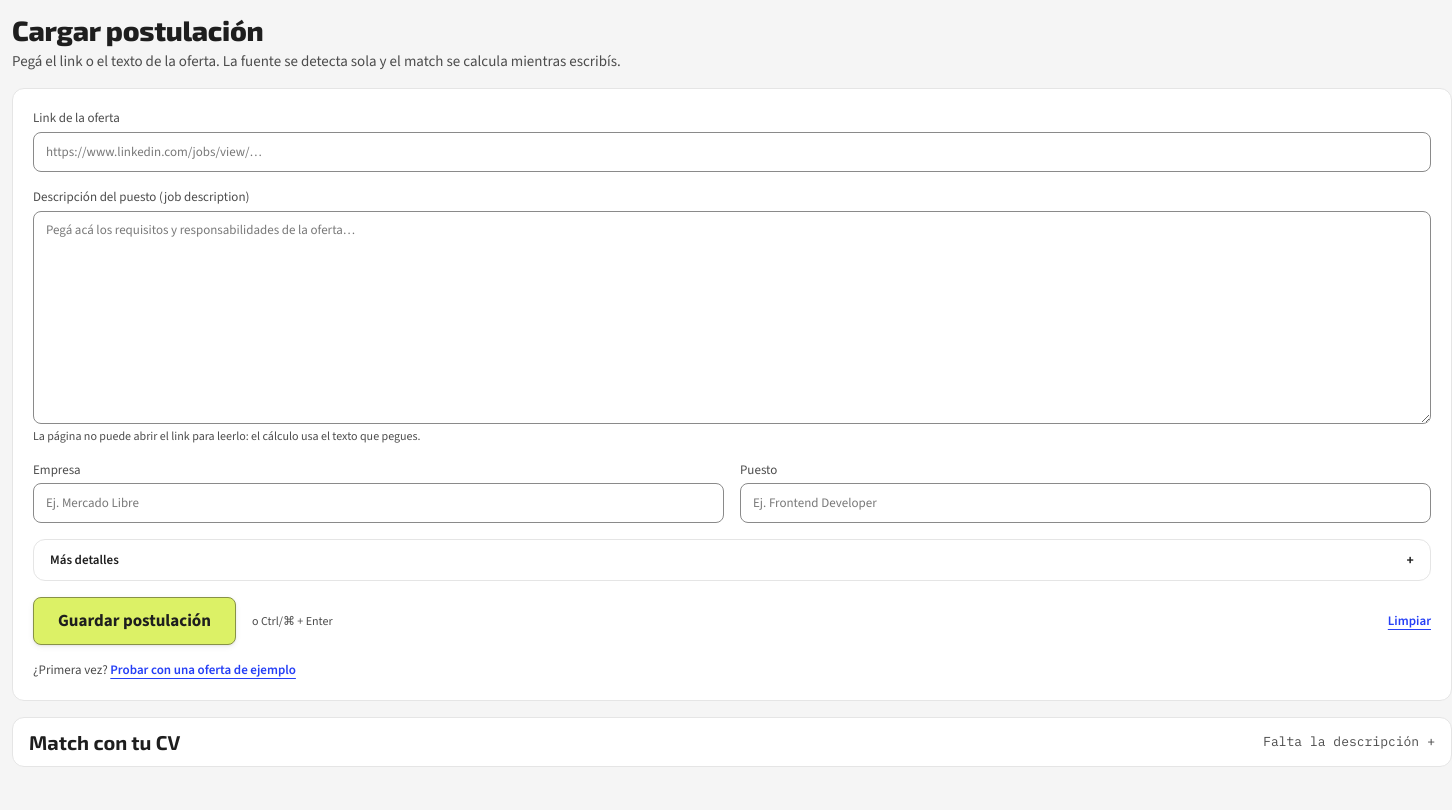
Test: NewOfferTab › fills the example and shows the computed match
The image size is (1452, 810).
Step 1. Click the button "Probar con una oferta de ejemplo" → (203, 671), box [110,661,296,680]
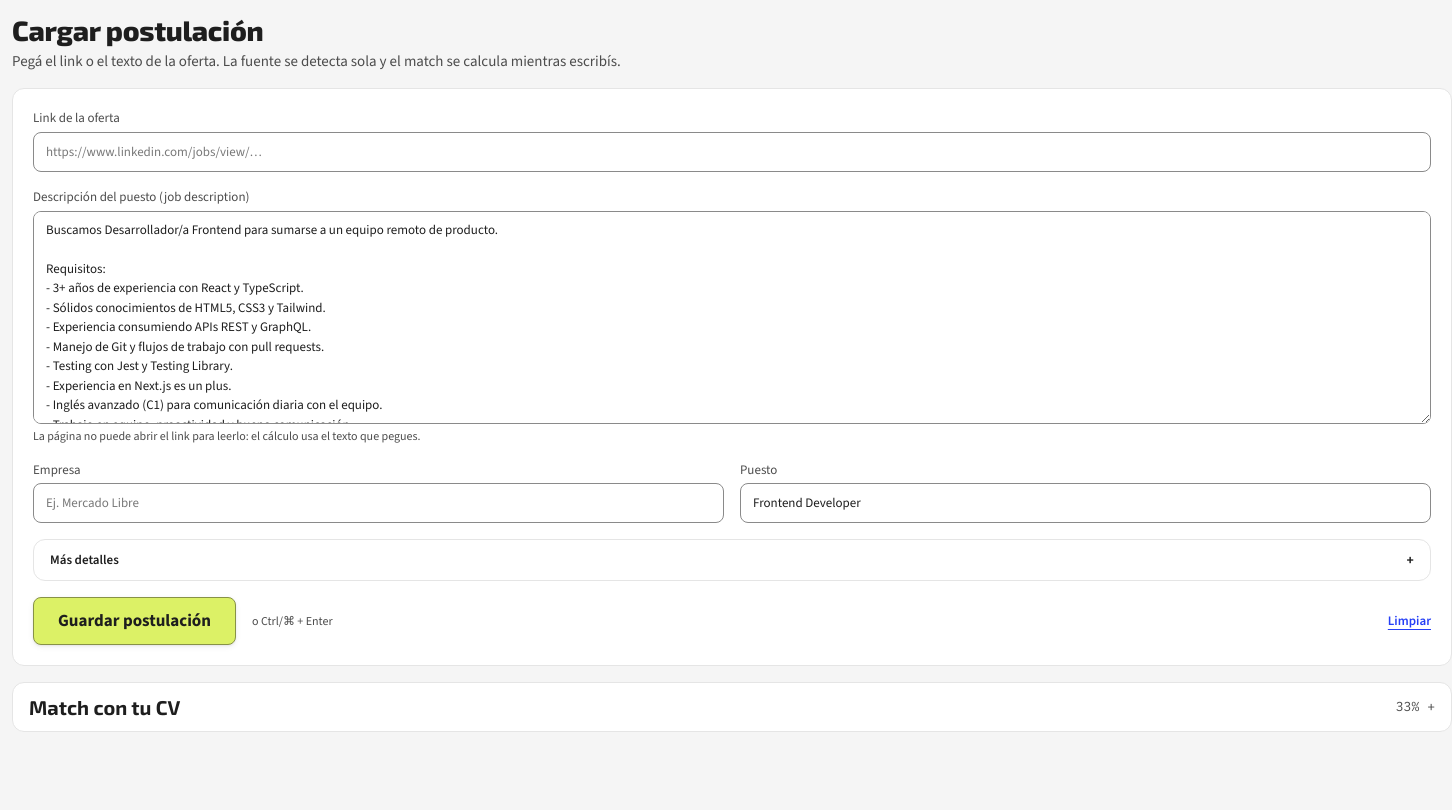
Expected: the field labelled "Puesto" holds "Frontend Developer", [740,483,1431,523]
